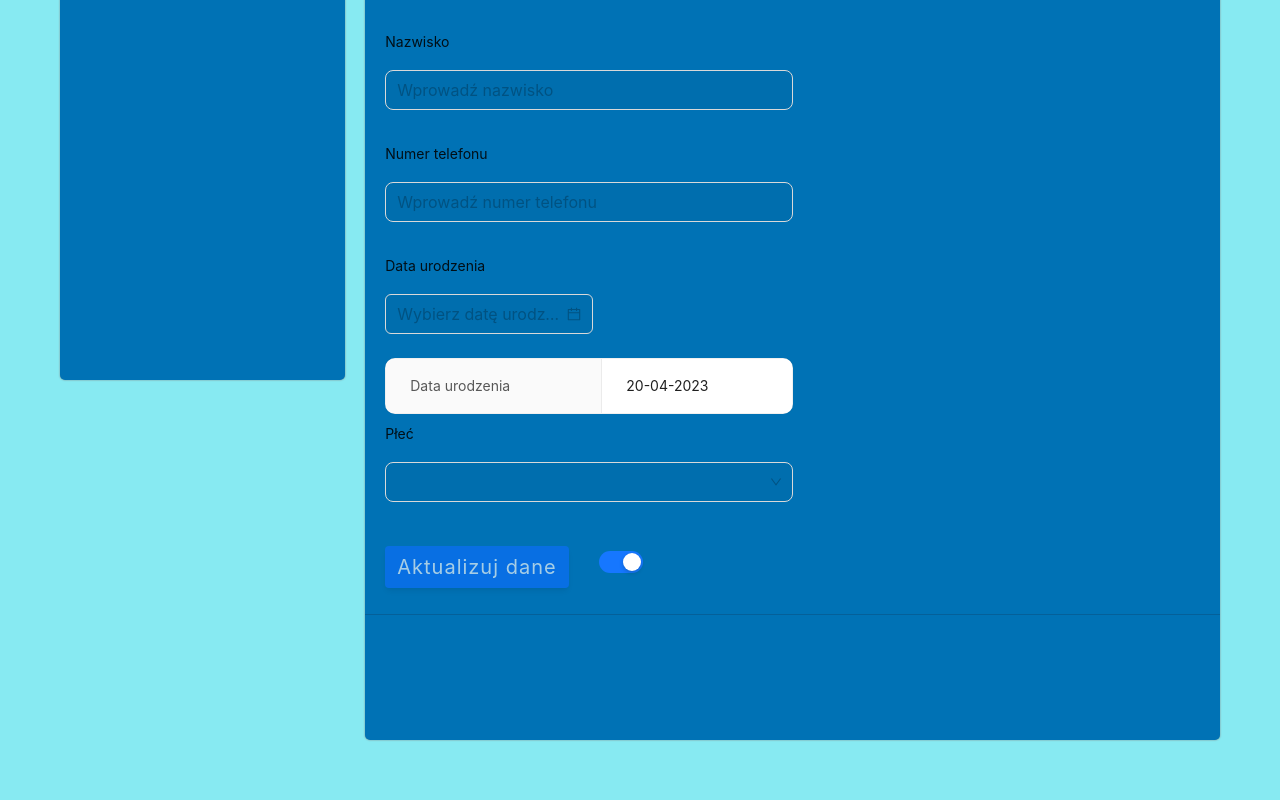
Settings Component › Test sprawdza działanie switcha w komponencie Settings. Switch ma blokować edytowanie danych użytkownika.
The image size is (1280, 800).
(page scrolled)
expect the button is disabled: met, box [385,546,569,588]
expect the field labelled "Nazwisko" has attribute disabled: met, box [385,70,793,110]
Click the switch.
click(621, 562)  # box [599,551,643,573]
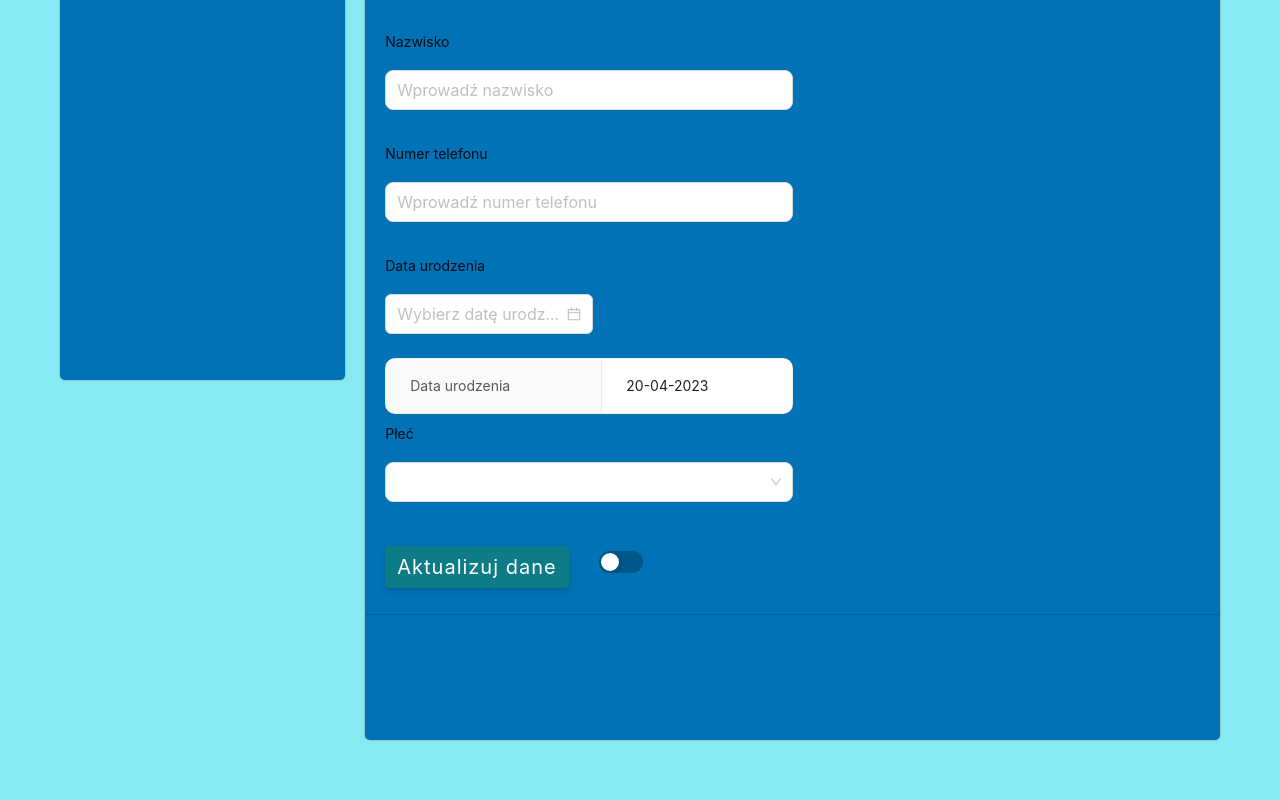
expect the switch is not checked: met, box [599,551,643,573]
expect the button is enabled: met, box [385,546,569,588]
